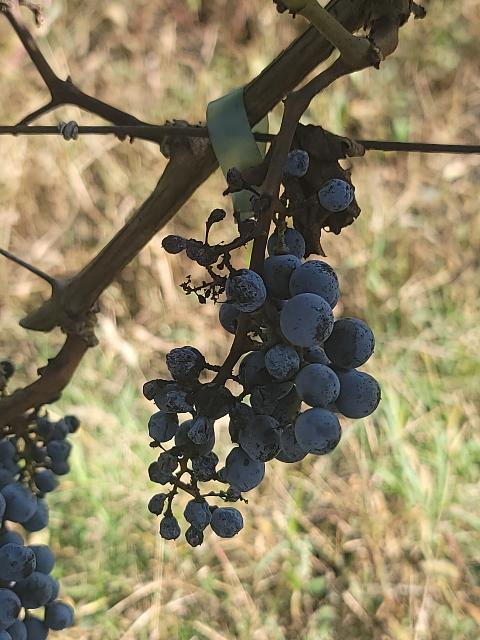grapes: (144, 226, 380, 545)
